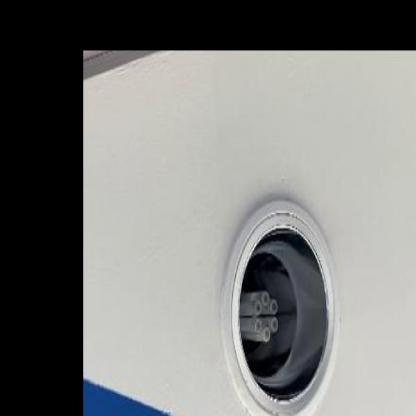light_off: (199, 144, 355, 415)
